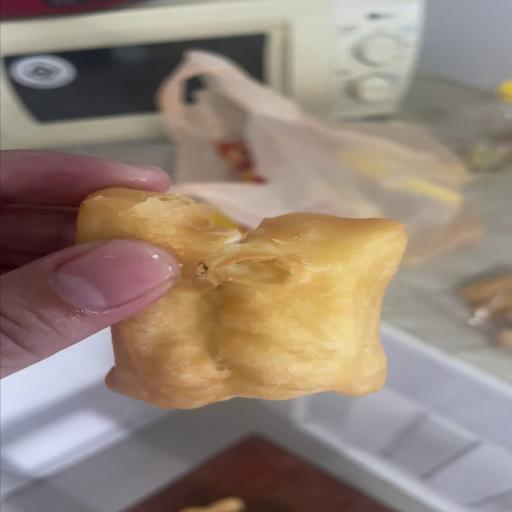street_golden_defect: (78, 188, 406, 408)
